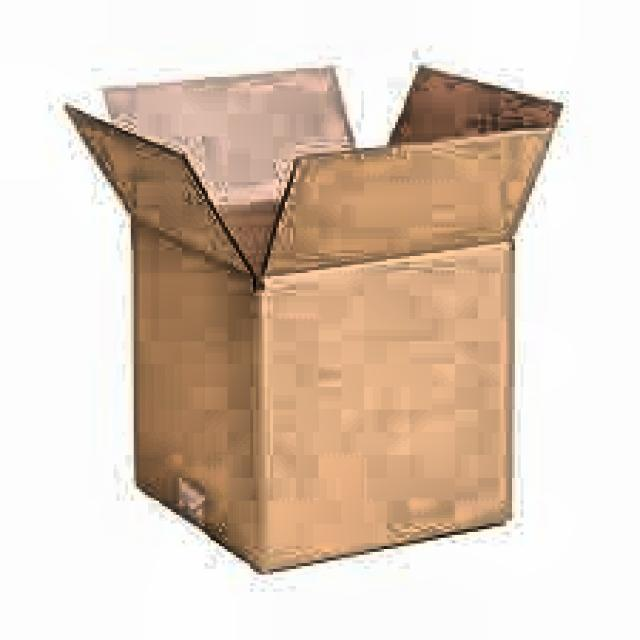cardboard: (62, 59, 564, 574)
